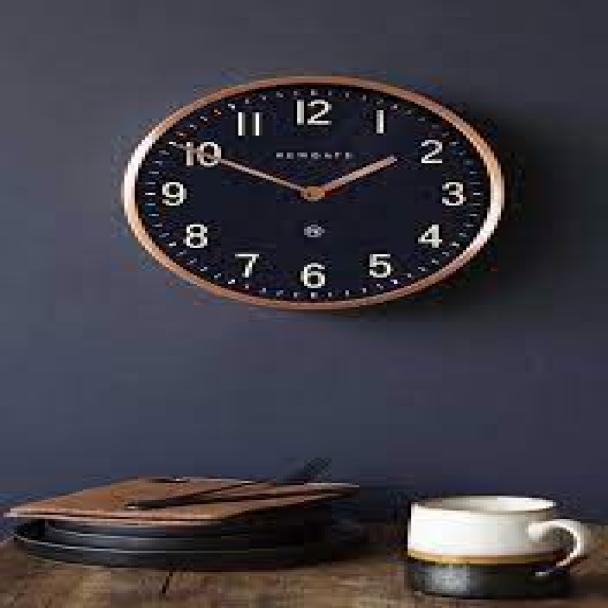Jam: (111, 80, 502, 308)
